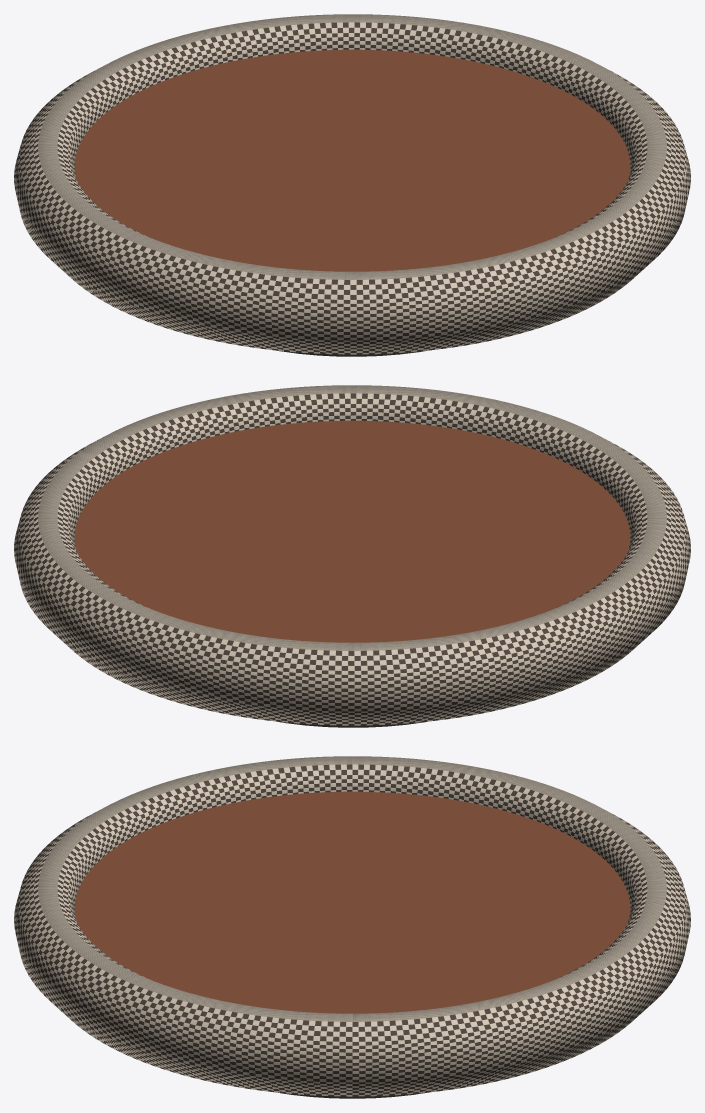
Rendered from P02_coffeepattern_reference.glb.
The picture shows the model from 3 angles, top to bottom: view 1: azimuth 30°, elevation 25°; view 2: azimuth 150°, elevation 25°; view 3: azimuth 270°, elevation 25°; orthographic projection.
Parts seen in each view (by area): view 1: Recessed circular leather tray, Rounded woven upholstered surround; view 2: Recessed circular leather tray, Rounded woven upholstered surround; view 3: Recessed circular leather tray, Rounded woven upholstered surround.
Part boxes in pixels (x1,y1,x2,y2): Recessed circular leather tray: (74, 49, 630, 271); Rounded woven upholstered surround: (14, 14, 690, 354); Recessed circular leather tray: (74, 420, 630, 642); Rounded woven upholstered surround: (14, 385, 690, 725); Recessed circular leather tray: (74, 791, 630, 1013); Rounded woven upholstered surround: (14, 756, 690, 1096).
Size of the model in its own units: 1.4 by 0.278 by 1.4.
4 materials, 1 textured.
